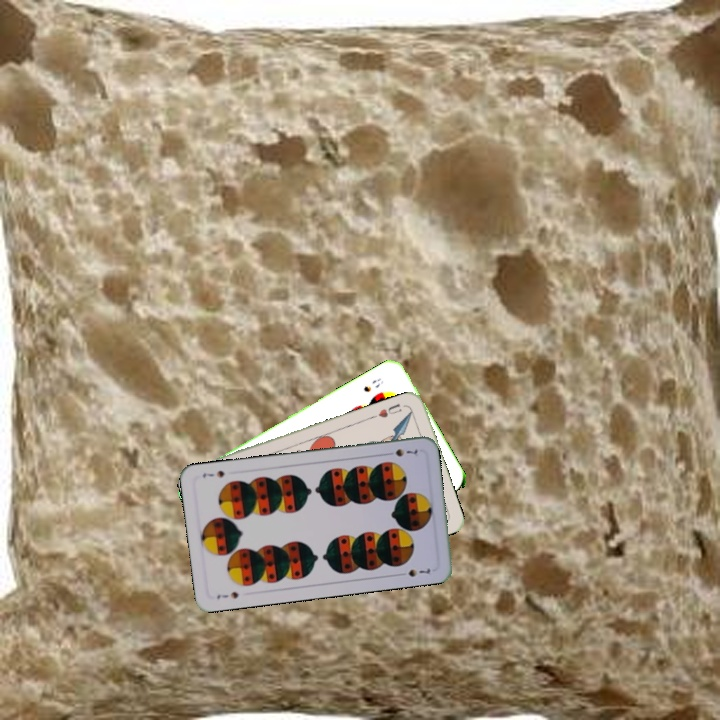HU: (374, 400, 404, 420)
S7: (382, 445, 420, 459), (213, 587, 242, 602)
S8: (359, 374, 386, 395)
